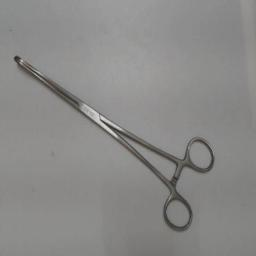Sponge Forceps: (10, 50, 220, 238)
